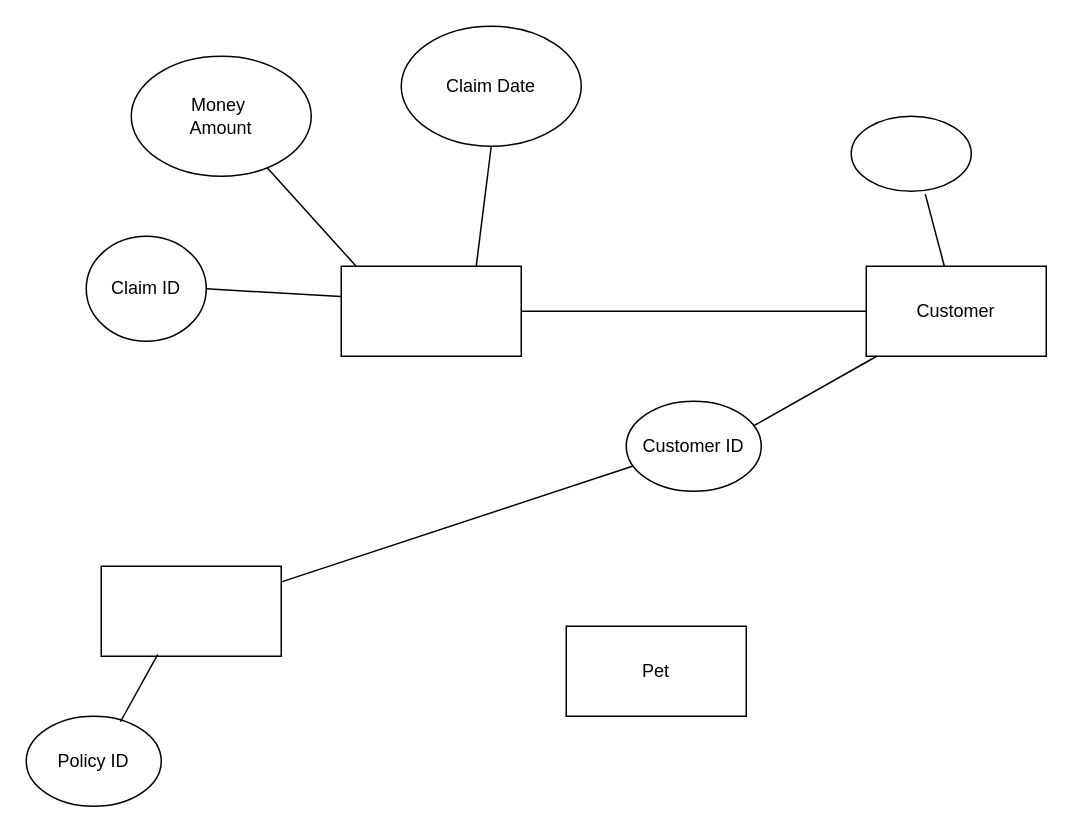
Image size: 1073x833. Some labels were removed from this diagram. The shapes that lost their labels are listed below. From the top down, each one's centre as x and y in pixels, then its label:
(x=910, y=153): Name
(x=430, y=310): Claim
(x=190, y=610): Policy
